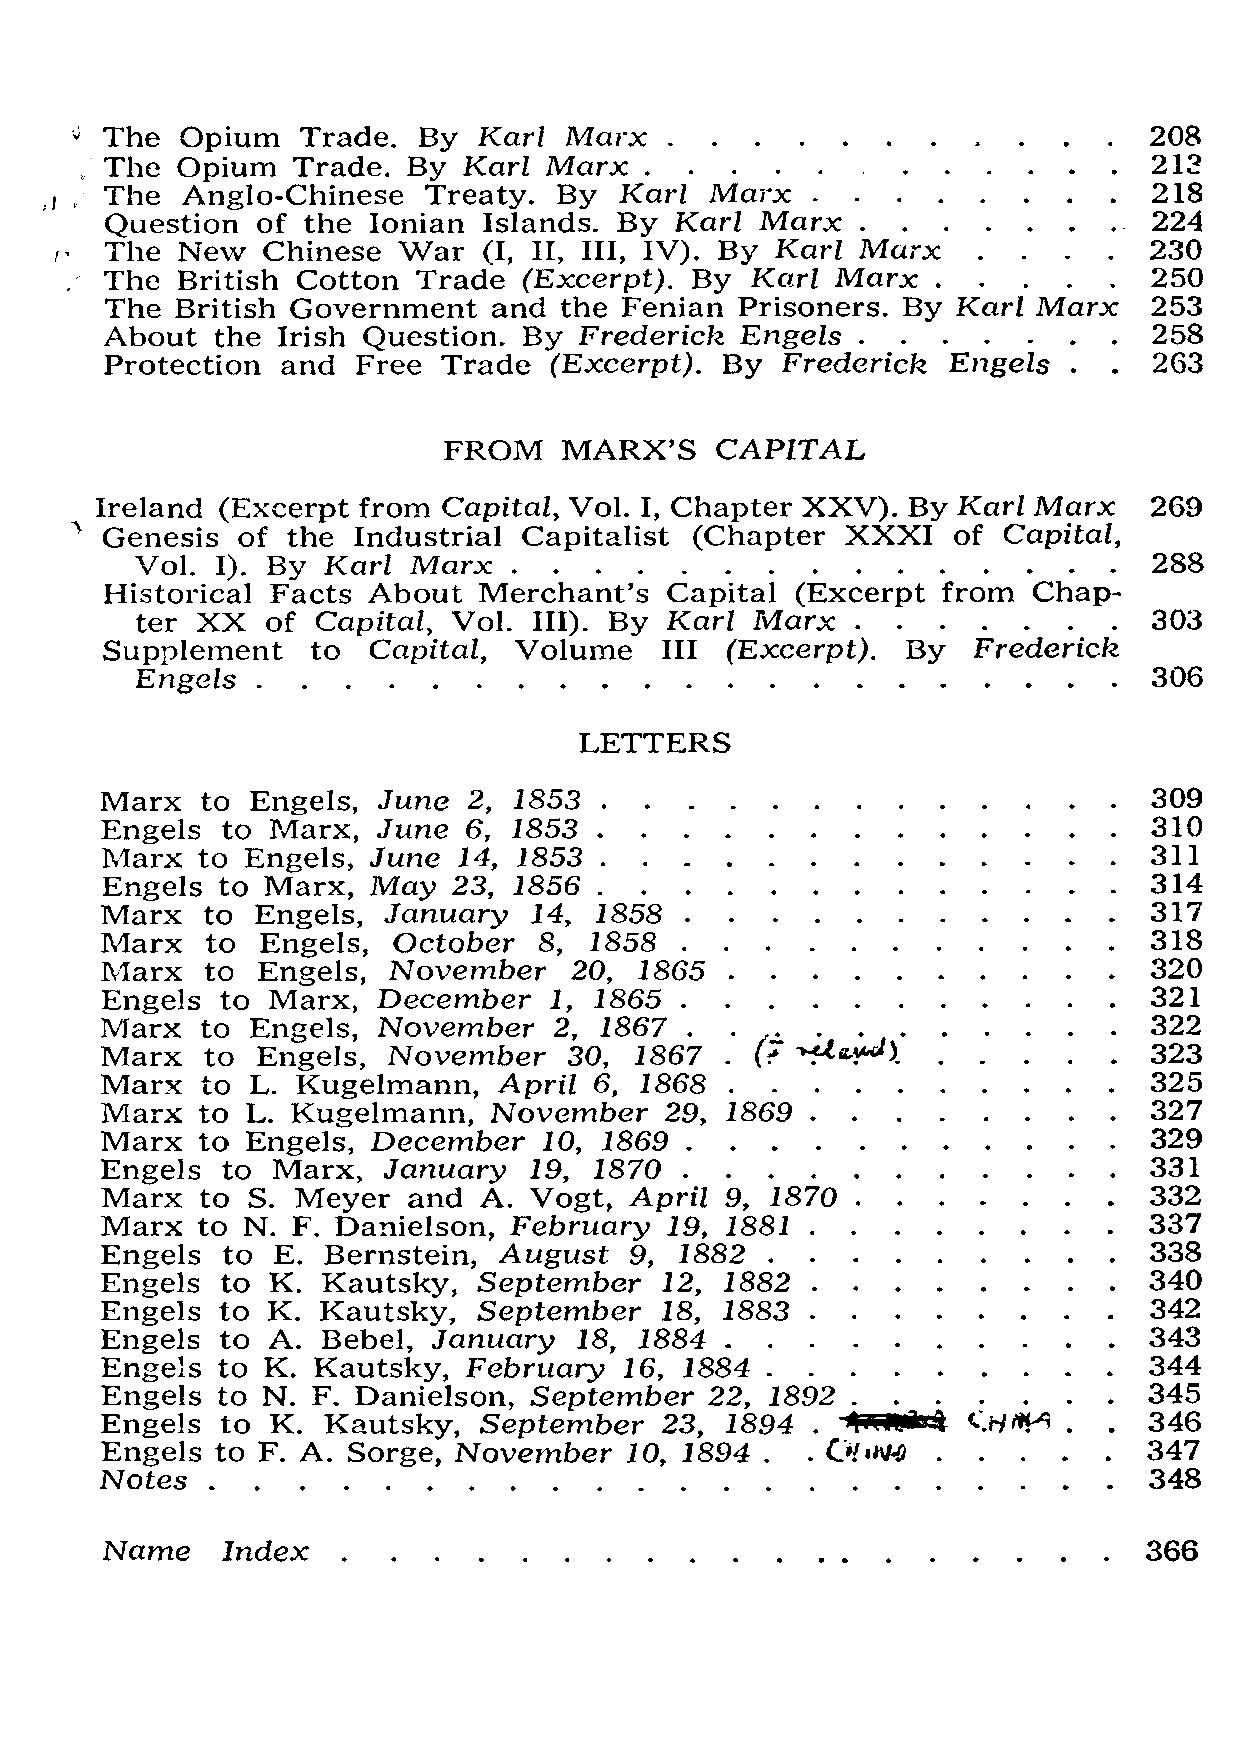TOC_chapter: (95, 552, 1131, 607), (90, 495, 1118, 549), (93, 612, 1122, 663), (101, 293, 1121, 322), (101, 352, 1051, 376), (101, 238, 943, 262), (101, 323, 845, 350), (98, 115, 650, 152), (101, 1210, 797, 1239), (101, 1410, 793, 1439), (101, 1185, 841, 1210), (98, 1098, 790, 1125), (101, 1044, 906, 1067), (101, 1351, 752, 1380), (101, 1439, 757, 1465), (97, 212, 841, 235), (101, 183, 798, 207), (101, 1384, 837, 1406), (98, 1268, 790, 1292), (101, 1296, 793, 1321), (101, 268, 923, 289), (101, 956, 707, 982), (433, 427, 870, 462), (98, 1071, 709, 1095), (98, 1013, 668, 1039), (98, 1155, 666, 1181), (97, 985, 663, 1011), (97, 926, 656, 951), (98, 1243, 747, 1264), (97, 1326, 706, 1349), (98, 900, 668, 925), (95, 841, 582, 870), (97, 785, 581, 813), (93, 1129, 674, 1151), (97, 154, 631, 178), (97, 874, 586, 896), (95, 816, 577, 836), (103, 1533, 309, 1567), (568, 727, 735, 756), (95, 1463, 188, 1494), (126, 666, 238, 688)
TOC_pagenumber: (1143, 480, 1210, 523), (1145, 1530, 1202, 1567), (1151, 659, 1208, 697), (1139, 234, 1208, 263), (1137, 263, 1208, 291), (1143, 837, 1205, 870), (1137, 149, 1206, 177), (1142, 778, 1206, 808), (1139, 178, 1206, 207), (1145, 293, 1210, 321), (1139, 207, 1208, 234), (1147, 923, 1206, 954), (1145, 812, 1206, 841), (1147, 545, 1206, 576), (1145, 118, 1206, 148), (1147, 603, 1210, 631), (1143, 1012, 1202, 1041), (1145, 980, 1202, 1009), (1146, 1292, 1205, 1321), (1145, 1151, 1202, 1180), (1146, 1351, 1202, 1380), (1146, 896, 1202, 925), (1145, 954, 1206, 980), (1147, 323, 1210, 348), (1147, 1436, 1201, 1464), (1146, 1408, 1202, 1435), (1147, 1266, 1201, 1292), (1147, 1123, 1204, 1149), (1150, 1068, 1206, 1094), (1147, 1041, 1206, 1066), (1151, 349, 1210, 373), (1147, 1094, 1205, 1118), (1145, 870, 1205, 892), (1145, 1326, 1204, 1349), (1147, 1212, 1206, 1235), (1151, 1468, 1205, 1492), (1146, 1382, 1202, 1405), (1146, 1240, 1202, 1263), (1146, 1184, 1205, 1204)
